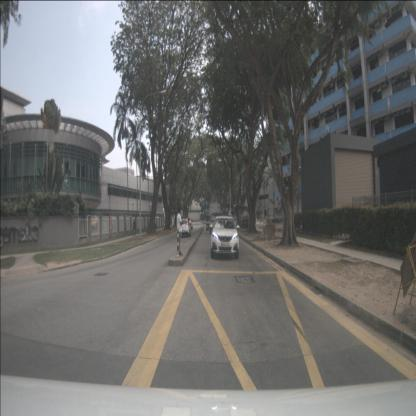human-pedestrian-adult: (176, 206, 184, 256), (132, 219, 137, 236)
vehicle-bicycle: (132, 220, 137, 236)
vehicle-car: (209, 216, 240, 258), (177, 219, 191, 237), (206, 213, 212, 231), (232, 216, 240, 227), (186, 218, 193, 229)
vehicle-truck: (209, 204, 221, 235)
